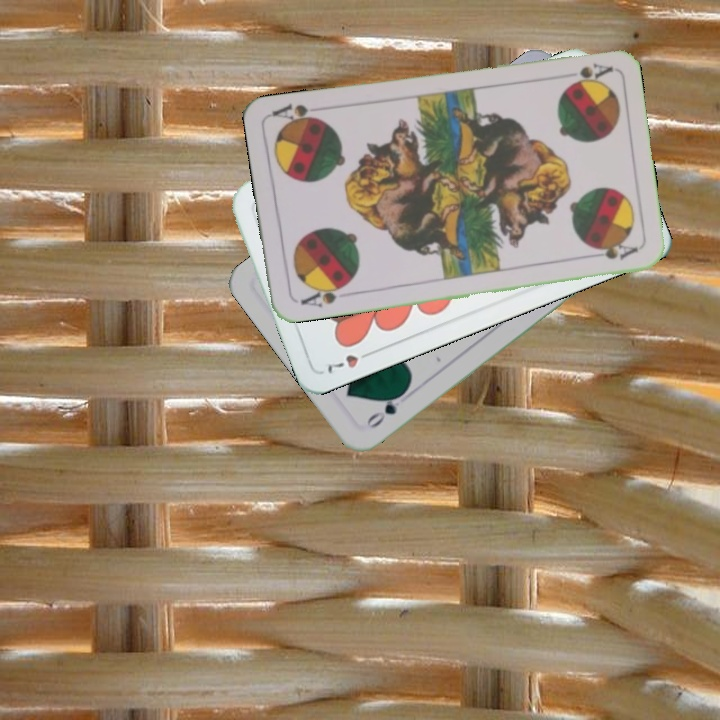GO: (362, 387, 409, 431)
H7: (320, 346, 377, 377)
SA: (296, 279, 351, 310), (565, 58, 614, 87)
